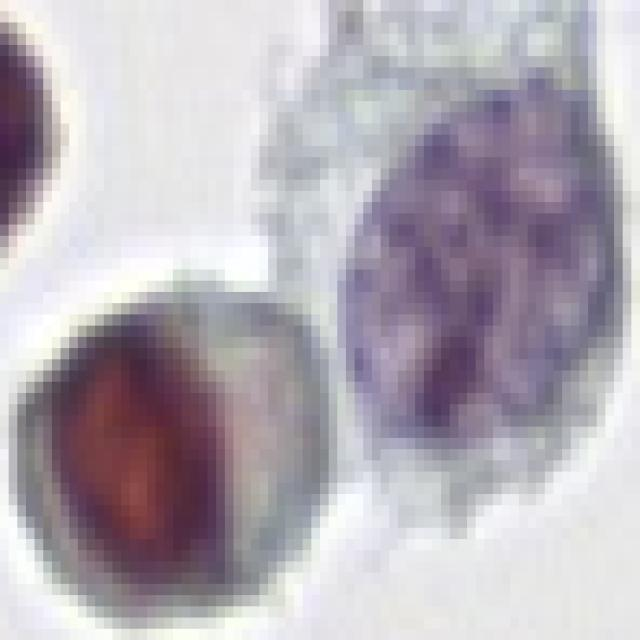cytoplasm: (0, 224, 392, 640)
nucleus: (339, 81, 616, 441), (17, 301, 286, 634)
